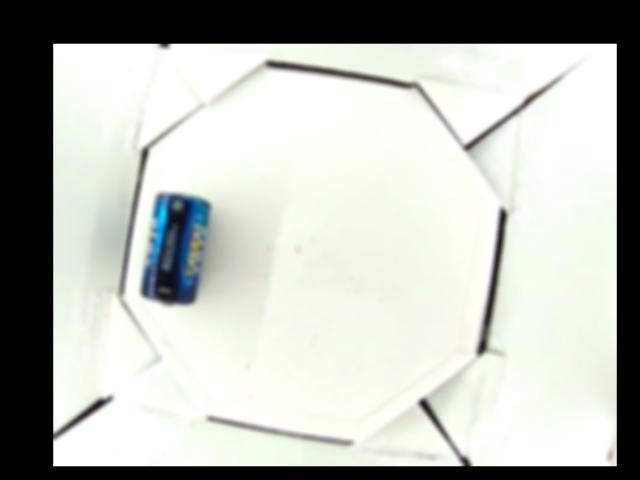Battery: (139, 192, 212, 307)
